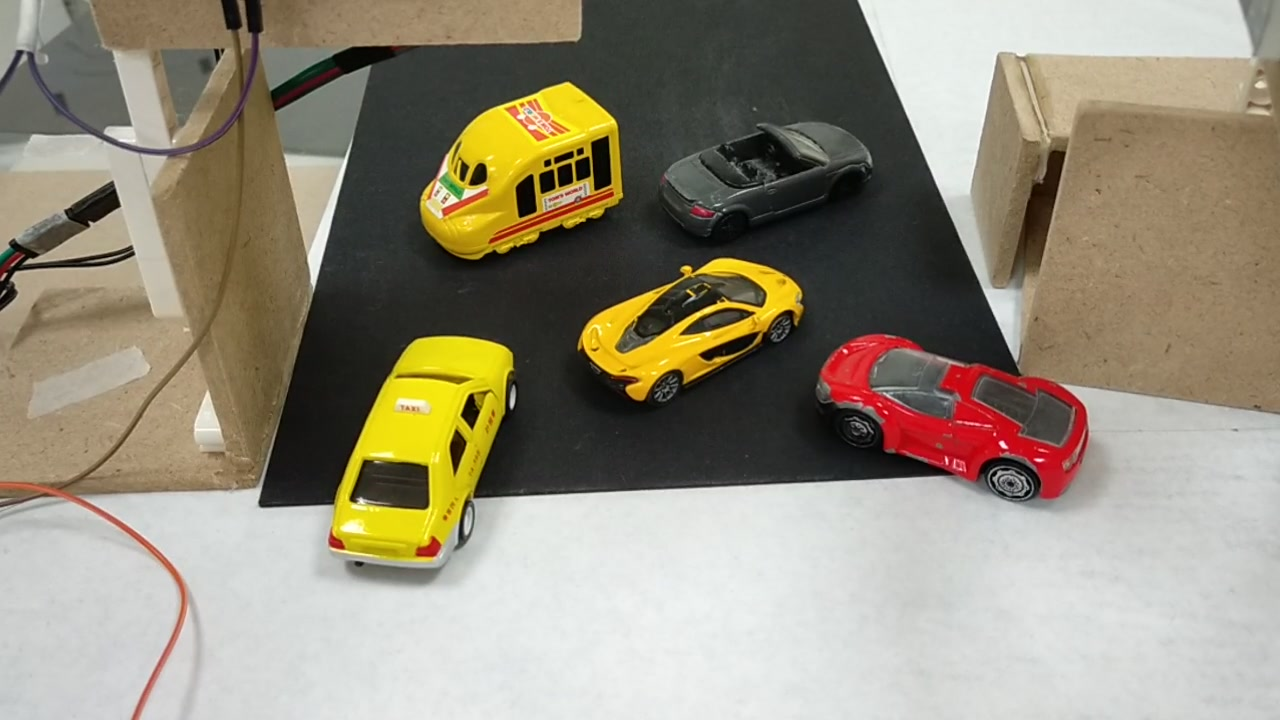car: (827, 323, 1085, 505), (326, 345, 520, 563), (652, 120, 881, 248), (576, 283, 812, 393)
